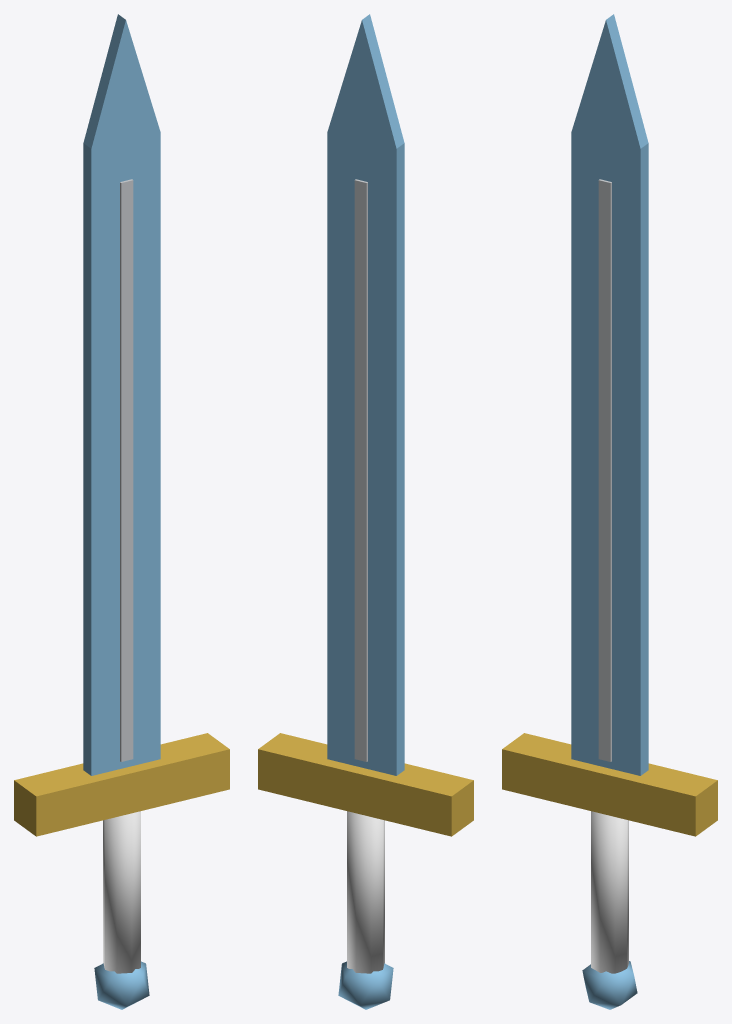
File: enchanted_sword.glb
3 views of the same model, side by side, from view 1: azimuth 30°, elevation 25°; view 2: azimuth 150°, elevation 25°; view 3: azimuth 330°, elevation 25° (orthographic).
Parts seen in each view (by area): view 1: glimmer_blade_v0; view 2: glimmer_blade_v0; view 3: glimmer_blade_v0.
Boxes of the visible parts, bbox=[...] form: glimmer_blade_v0: bbox=[14, 14, 229, 1009]; glimmer_blade_v0: bbox=[258, 14, 473, 1009]; glimmer_blade_v0: bbox=[502, 14, 717, 1009].
Bounding box in the file's own units: 0.252 × 1.23 × 0.0595.
